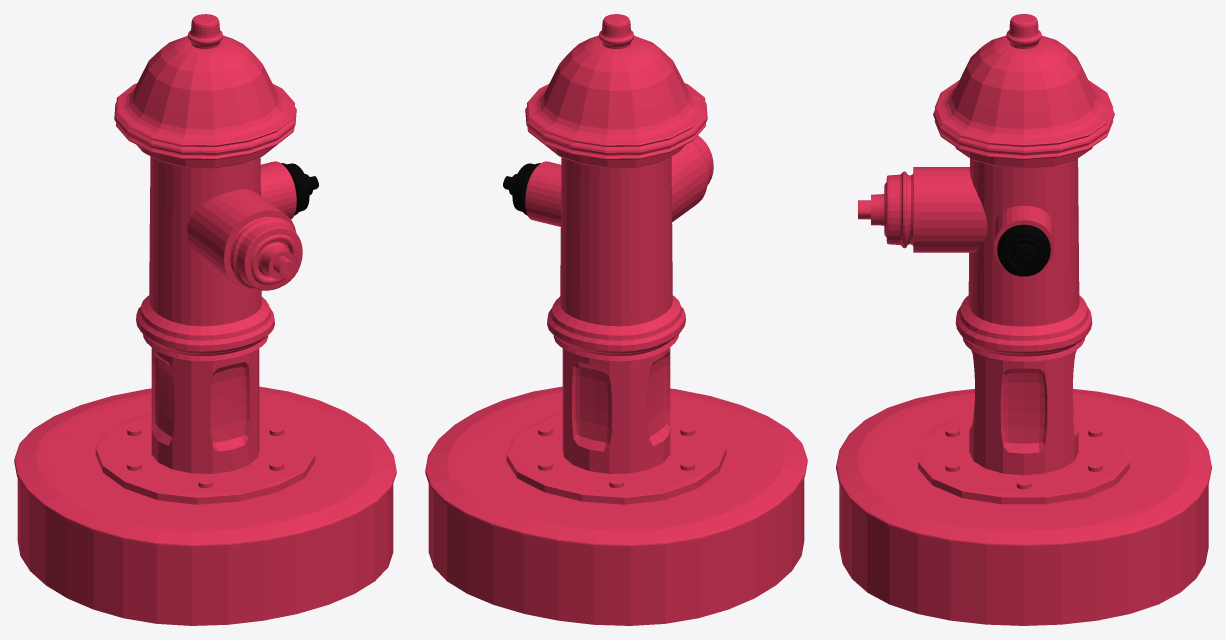
File: fire_hydrant.fbx
3 renders of one model, left to right at view 1: azimuth 30°, elevation 25°; view 2: azimuth 150°, elevation 25°; view 3: azimuth 270°, elevation 25°, orthographic.
Visible parts, largest first — view 1: FireHydrant.LP, FireHydrant.LP.001; view 2: FireHydrant.LP, FireHydrant.LP.001; view 3: FireHydrant.LP, FireHydrant.LP.001.
Part boxes in pixels (x1,y1,x2,y2): FireHydrant.LP: [14, 14, 396, 625]; FireHydrant.LP.001: [151, 347, 259, 473]; FireHydrant.LP: [425, 14, 807, 625]; FireHydrant.LP.001: [562, 347, 670, 473]; FireHydrant.LP: [836, 14, 1211, 625]; FireHydrant.LP.001: [969, 350, 1078, 475].
Size of the model in its own units: 110 by 110 by 171.
